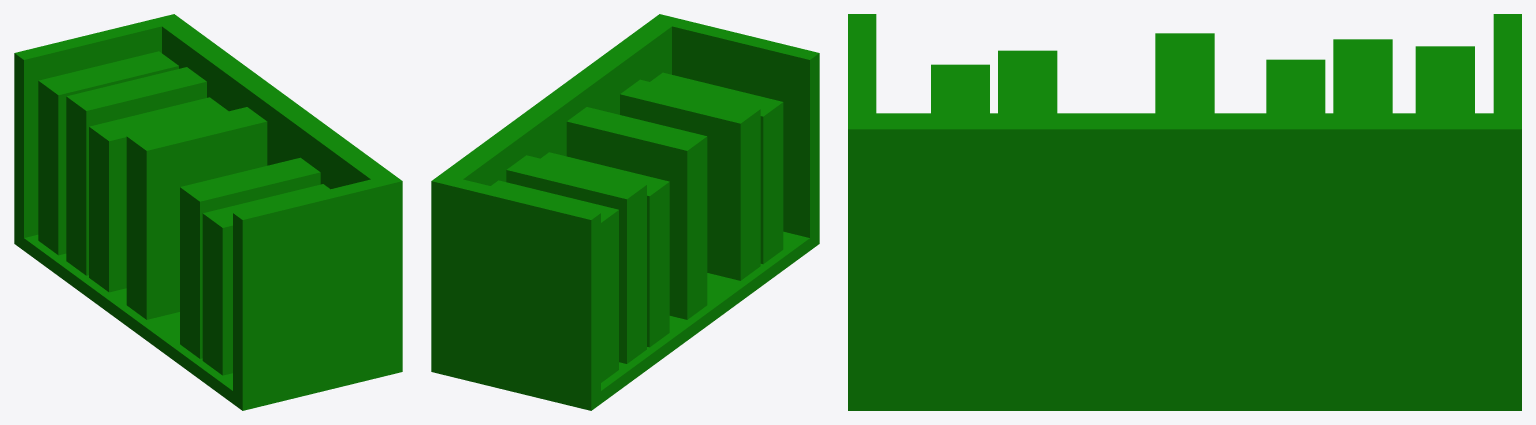
File: LibrosV2.fbx
3 renders of one model, left to right at view 1: azimuth 30°, elevation 25°; view 2: azimuth 150°, elevation 25°; view 3: azimuth 270°, elevation 25°, orthographic. The views are drawn at different scales.
Parts seen in each view (by area): view 1: Cube.017, Cube.015, Cube.023, Cube.016, Cube.008, Cube.024, Cube.003; view 2: Cube.017, Cube.008, Cube.015, Cube.023, Cube.003, Cube.016, Cube.024; view 3: Cube.017, Cube.015, Cube.023, Cube.024, Cube.008, Cube.016, Cube.003.
Part boxes in pixels (bbox=[...]): Cube.017: bbox=[14, 14, 402, 410]; Cube.015: bbox=[126, 107, 267, 319]; Cube.023: bbox=[66, 67, 206, 275]; Cube.016: bbox=[89, 97, 228, 292]; Cube.008: bbox=[180, 157, 320, 358]; Cube.024: bbox=[38, 51, 178, 255]; Cube.003: bbox=[202, 184, 329, 375]; Cube.017: bbox=[431, 14, 819, 410]; Cube.008: bbox=[620, 79, 760, 280]; Cube.015: bbox=[566, 107, 707, 319]; Cube.023: bbox=[506, 155, 646, 363]; Cube.003: bbox=[650, 72, 783, 264]; Cube.016: bbox=[541, 152, 669, 347]; Cube.024: bbox=[491, 180, 618, 382]; Cube.017: bbox=[848, 14, 1521, 410]; Cube.015: bbox=[1155, 33, 1214, 113]; Cube.023: bbox=[1333, 39, 1392, 113]; Cube.024: bbox=[1415, 46, 1474, 113]; Cube.008: bbox=[998, 50, 1057, 113]; Cube.016: bbox=[1266, 59, 1325, 113]; Cube.003: bbox=[931, 64, 989, 113].
Size of the model in its own units: 15.97 by 18.21 by 39.47.
